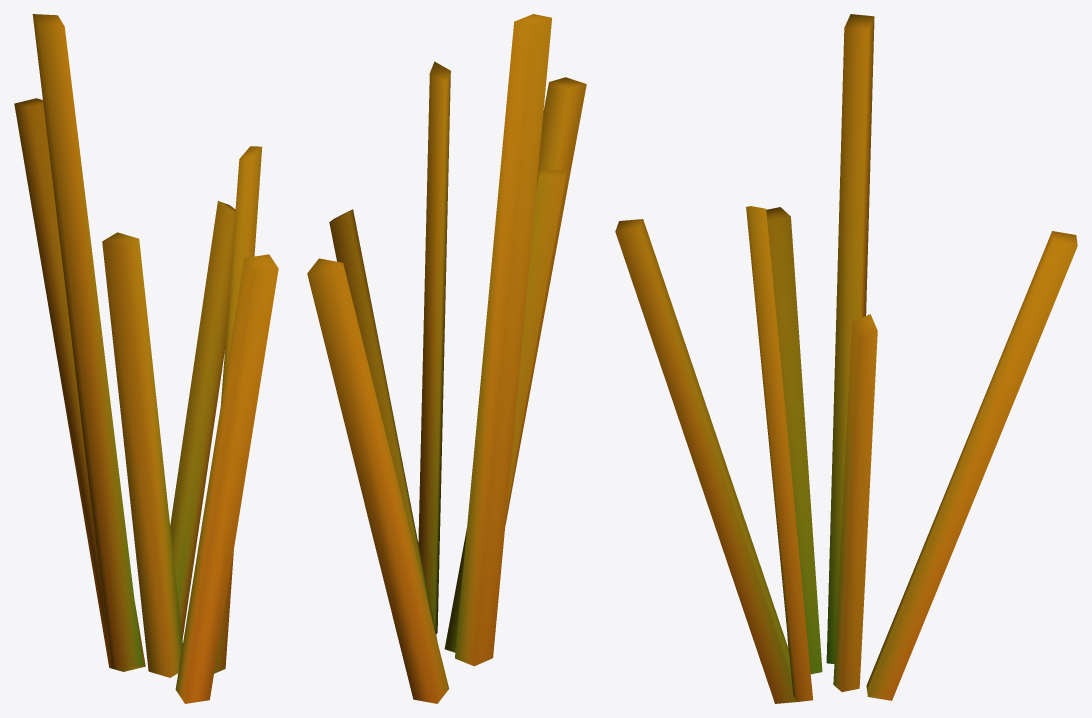
The model's file is SM_RicePlants_13.fbx.
The picture shows the model from 3 angles, left to right: view 1: azimuth 30°, elevation 25°; view 2: azimuth 150°, elevation 25°; view 3: azimuth 270°, elevation 25°; orthographic projection. The views are drawn at different scales.
Parts seen in each view (by area): view 1: SM_RicePlants_13; view 2: SM_RicePlants_13; view 3: SM_RicePlants_13.
Part boxes in pixels (<box>): SM_RicePlants_13: <box>14,14,278,703</box>; SM_RicePlants_13: <box>307,14,586,703</box>; SM_RicePlants_13: <box>615,14,1077,703</box>.
Size of the model in its own units: 0.1442 by 0.4474 by 0.2951.
